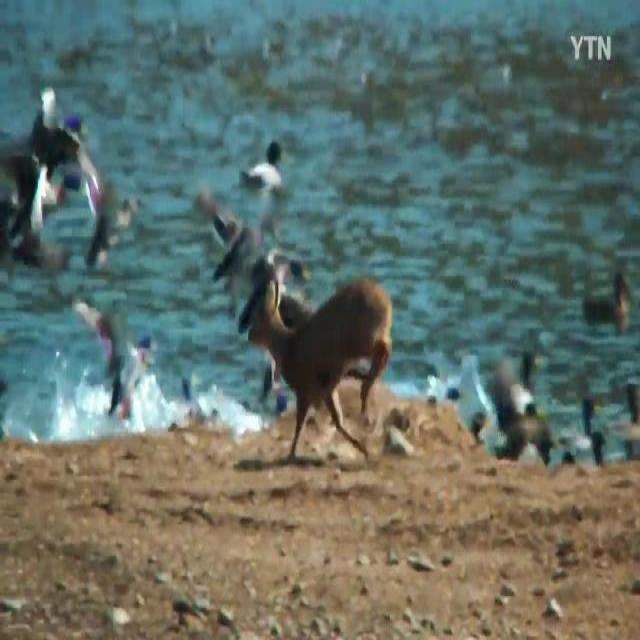deer: (249, 279, 392, 470)
